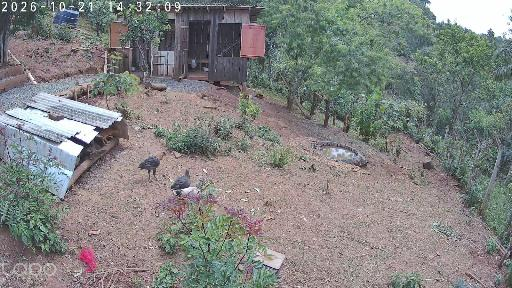frango: (142, 150, 166, 180)
galinha: (171, 169, 191, 189), (181, 187, 203, 203)
pato: (203, 66, 210, 72)
